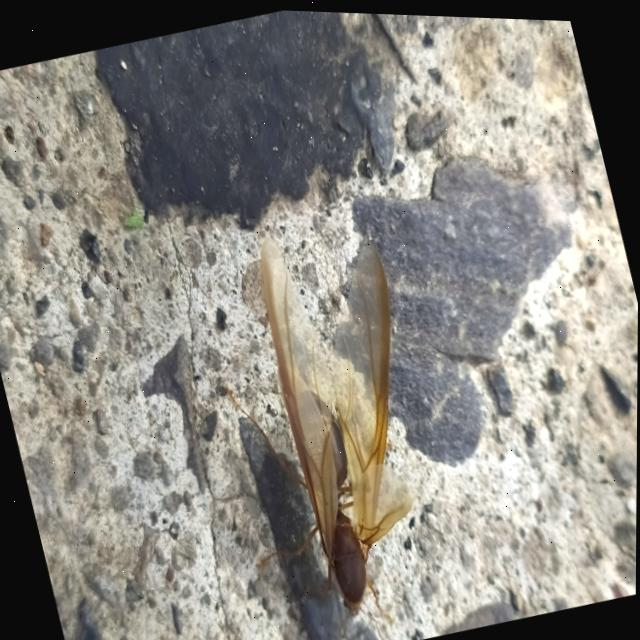Alive-Male-Alate: (183, 204, 474, 640)
